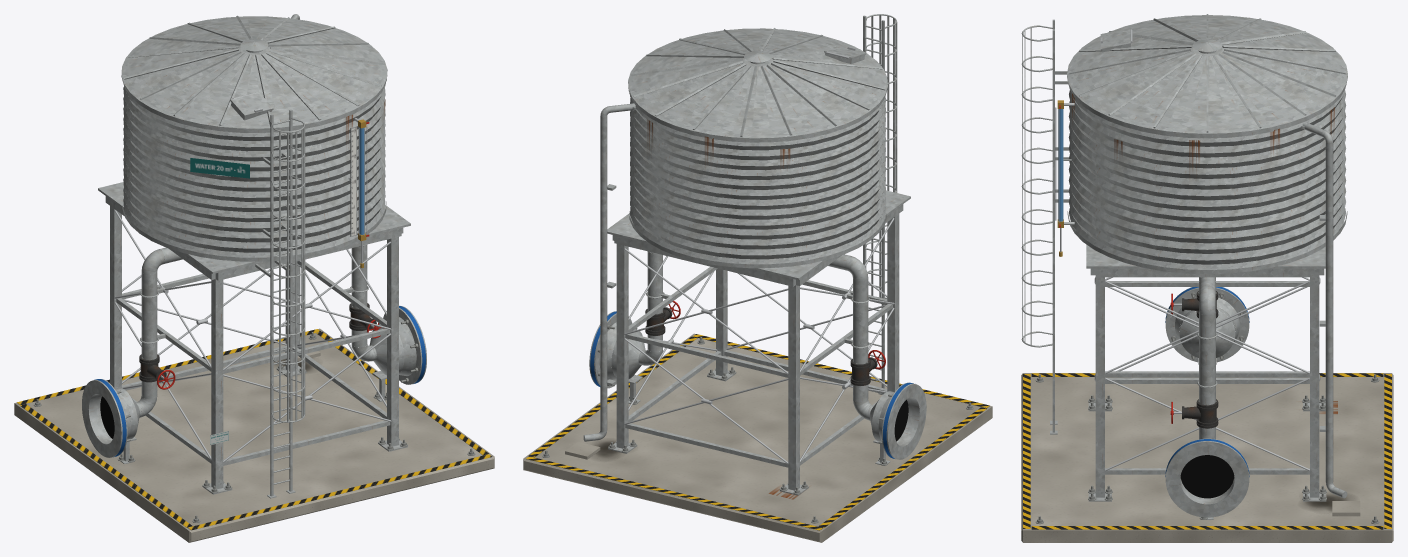
Rendered from WaterTank.glb.
3 views of the same model, side by side, from view 1: azimuth 30°, elevation 25°; view 2: azimuth 150°, elevation 25°; view 3: azimuth 270°, elevation 25° (orthographic). The views are drawn at different scales.
Visible parts, largest first — view 1: WT_Tank_Galv, WT_Stand_Concrete, WT_Stand_Galv, WT_Ladder_Galv, WT_Piping_Galv, WT_Stand_Steel, WT_Stand_Hazard, WT_PortIn_Galv, WT_PortOut_Galv, WT_Piping_Iron, WT_Tank_TankLabel, WT_Gauge_GaugeScale (+2 smaller); view 2: WT_Tank_Galv, WT_Stand_Concrete, WT_Stand_Galv, WT_Piping_Galv, WT_Stand_Steel, WT_Stand_Hazard, WT_Ladder_Galv, WT_PortIn_Galv, WT_PortOut_Galv, WT_Piping_Iron, WT_Stand_Bolts; view 3: WT_Tank_Galv, WT_Stand_Concrete, WT_Stand_Galv, WT_Piping_Galv, WT_Ladder_Galv, WT_Stand_Hazard, WT_PortOut_Galv, WT_Stand_Steel, WT_PortIn_Galv, WT_PortOut_Bore, WT_Piping_Iron, WT_Stand_Bolts (+5 smaller).
Boxes of the visible parts, x1,y1,x2,y2 form: WT_Tank_Galv: [121, 15, 387, 261]; WT_Stand_Concrete: [14, 328, 494, 542]; WT_Stand_Galv: [98, 182, 410, 494]; WT_Ladder_Galv: [255, 109, 305, 498]; WT_Piping_Galv: [121, 14, 386, 464]; WT_Stand_Steel: [114, 210, 391, 462]; WT_Stand_Hazard: [17, 329, 491, 530]; WT_PortIn_Galv: [82, 379, 137, 457]; WT_PortOut_Galv: [379, 305, 426, 384]; WT_Piping_Iron: [139, 303, 376, 382]; WT_Tank_TankLabel: [190, 158, 249, 178]; WT_Gauge_GaugeScale: [351, 128, 356, 235]; WT_Tank_Galv: [628, 28, 887, 268]; WT_Stand_Concrete: [523, 333, 992, 542]; WT_Stand_Galv: [607, 190, 910, 495]; WT_Piping_Galv: [583, 103, 890, 465]; WT_Stand_Steel: [624, 218, 894, 464]; WT_Stand_Hazard: [526, 334, 989, 530]; WT_Ladder_Galv: [863, 14, 897, 394]; WT_PortIn_Galv: [872, 382, 926, 459]; WT_PortOut_Galv: [589, 311, 635, 388]; WT_Piping_Iron: [645, 307, 877, 385]; WT_Stand_Bolts: [542, 337, 973, 523]; WT_Tank_Galv: [1067, 14, 1347, 274]; WT_Stand_Concrete: [1021, 373, 1393, 542]; WT_Stand_Galv: [1086, 244, 1326, 501]; WT_Piping_Galv: [1179, 122, 1347, 519]; WT_Ladder_Galv: [1021, 19, 1069, 434]; WT_Stand_Hazard: [1023, 373, 1391, 529]; WT_PortOut_Galv: [1165, 438, 1249, 517]; WT_Stand_Steel: [1094, 277, 1320, 470]; WT_PortIn_Galv: [1165, 287, 1249, 362]; WT_PortOut_Bore: [1180, 455, 1234, 498]; WT_Piping_Iron: [1182, 291, 1218, 428]; WT_Stand_Bolts: [1035, 374, 1379, 524].
Size of the model in its own units: 8 by 9.99 by 8.
17 materials, 9 textured.
